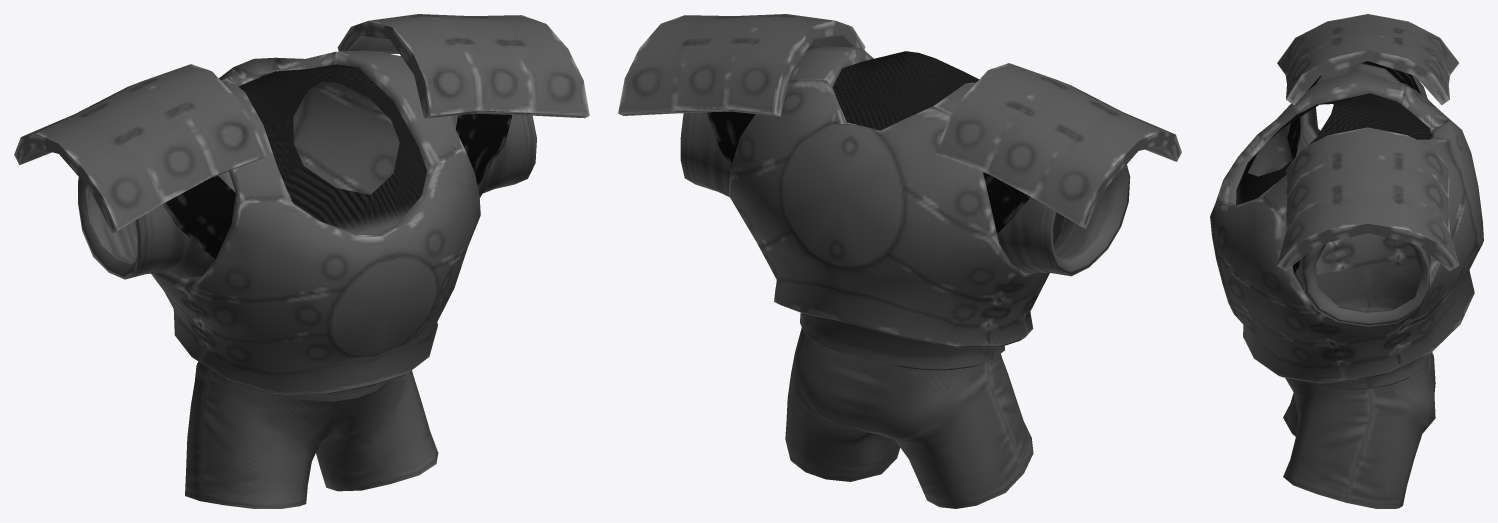
3 views of the same model, side by side, from view 1: azimuth 30°, elevation 25°; view 2: azimuth 150°, elevation 25°; view 3: azimuth 270°, elevation 25° (orthographic). The views are drawn at different scales.
Visible parts, largest first — view 1: model_0_submesh_0, model_0_submesh_1, model_0_submesh_2; view 2: model_0_submesh_0, model_0_submesh_1, model_0_submesh_2; view 3: model_0_submesh_0, model_0_submesh_1, model_0_submesh_2.
Part boxes in pixels (bbox=[...]): model_0_submesh_0: bbox=[14, 14, 589, 395]; model_0_submesh_1: bbox=[78, 115, 536, 508]; model_0_submesh_2: bbox=[238, 64, 426, 235]; model_0_submesh_0: bbox=[618, 14, 1181, 347]; model_0_submesh_1: bbox=[680, 50, 1130, 508]; model_0_submesh_2: bbox=[832, 51, 979, 130]; model_0_submesh_0: bbox=[1210, 14, 1483, 383]; model_0_submesh_1: bbox=[1283, 63, 1435, 508]; model_0_submesh_2: bbox=[1236, 93, 1430, 205].
Size of the model in its own units: 1.48 by 1.28 by 0.8163.
